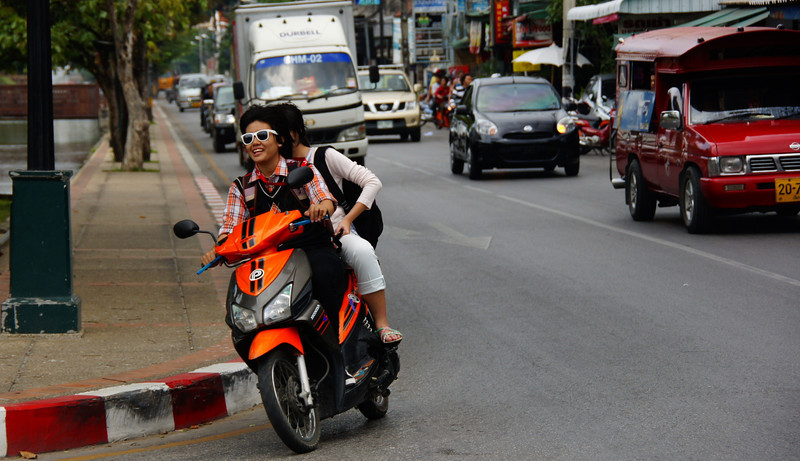bike: (182, 209, 394, 448)
car: (617, 24, 800, 228), (451, 76, 582, 181)
person: (228, 108, 329, 232)
pole: (11, 4, 81, 334)
tree: (83, 1, 164, 170)
